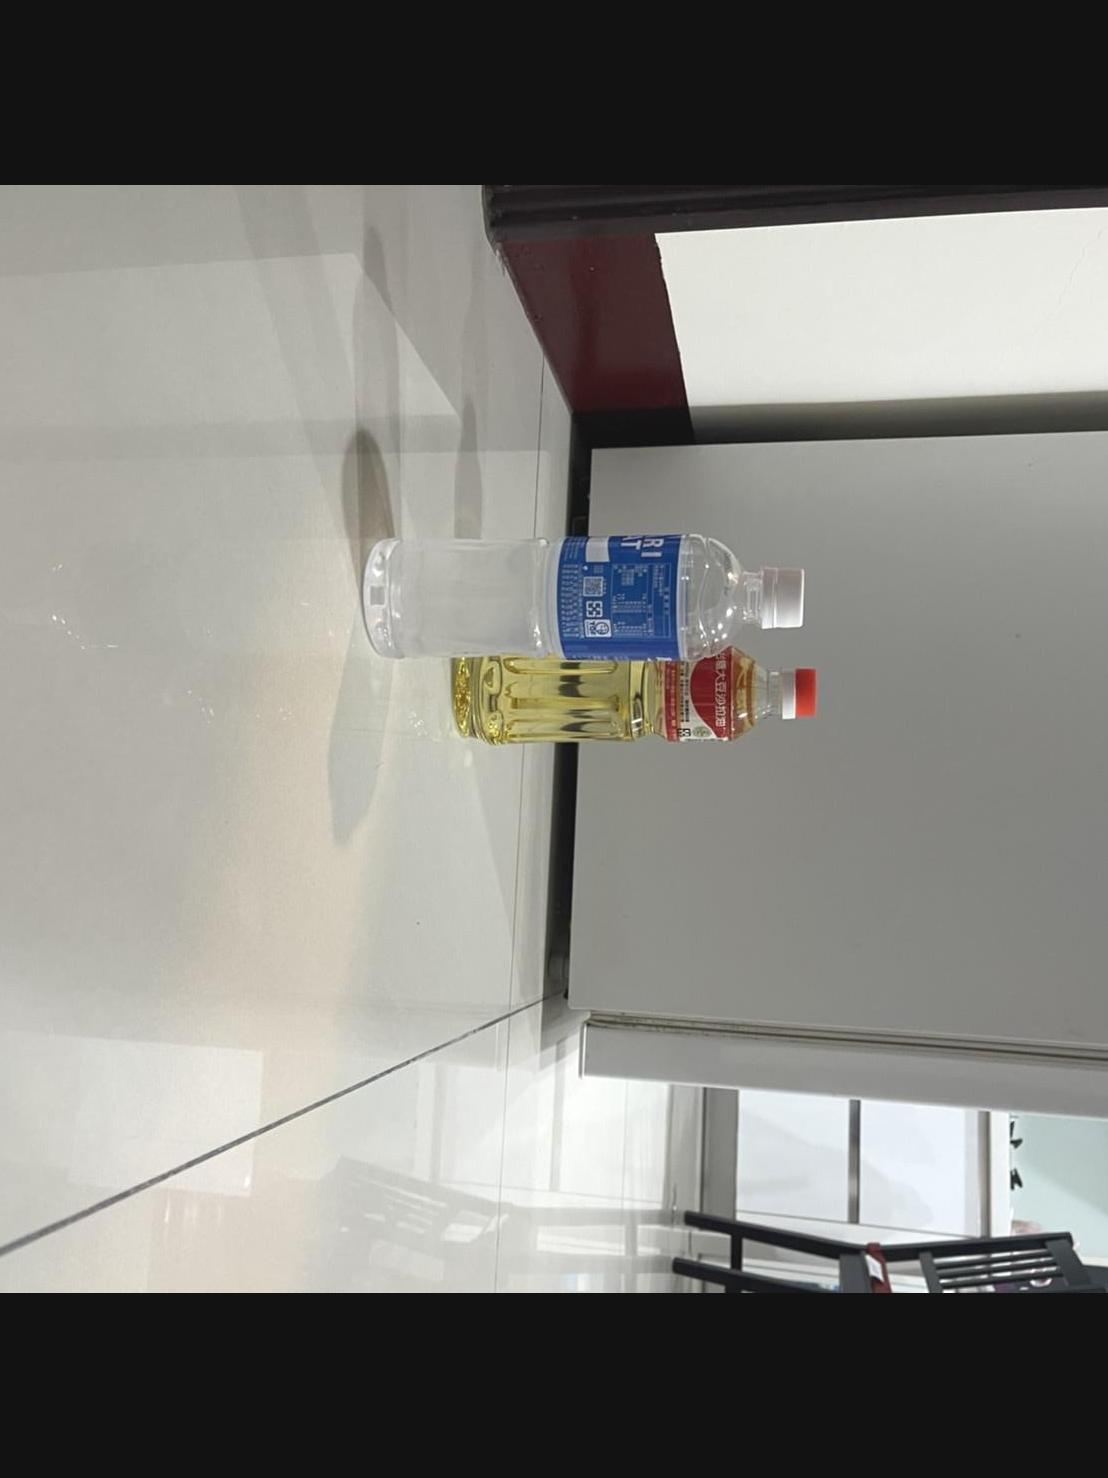bottle: (338, 516, 828, 677), (433, 563, 840, 703)
